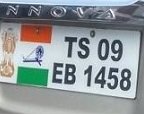0: (96, 38, 110, 62)
1: (83, 64, 94, 87)
4: (93, 65, 107, 89)
5: (107, 66, 119, 90)
8: (118, 67, 132, 92)
9: (110, 39, 124, 62)
B: (63, 62, 78, 86)
E: (51, 62, 64, 85)
S: (76, 37, 91, 60)
T: (63, 36, 76, 59)
